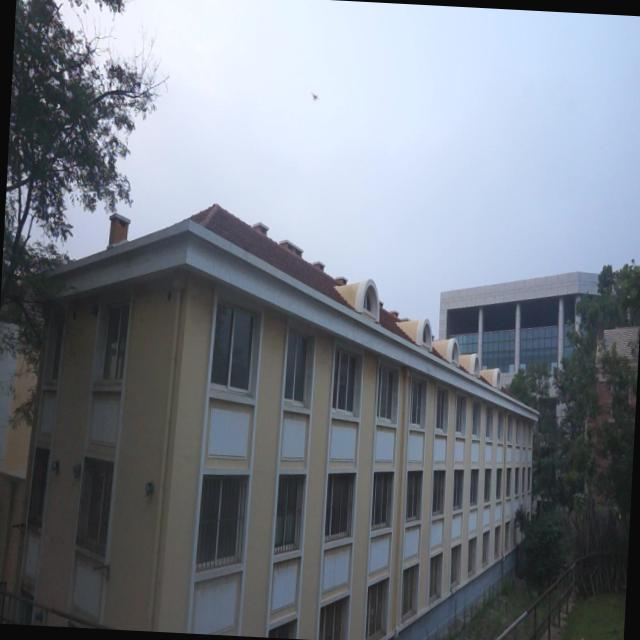drone: (310, 87, 321, 109)
